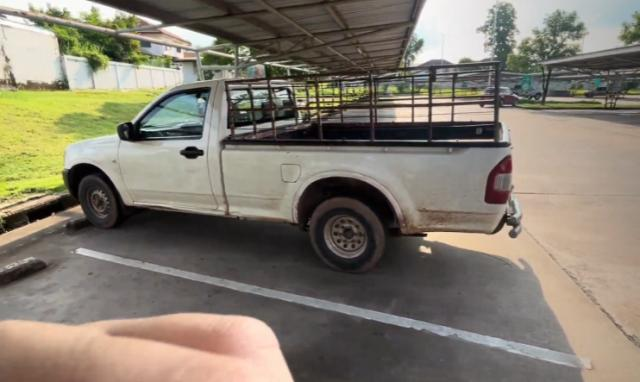pickup-truck: (63, 79, 527, 274)
